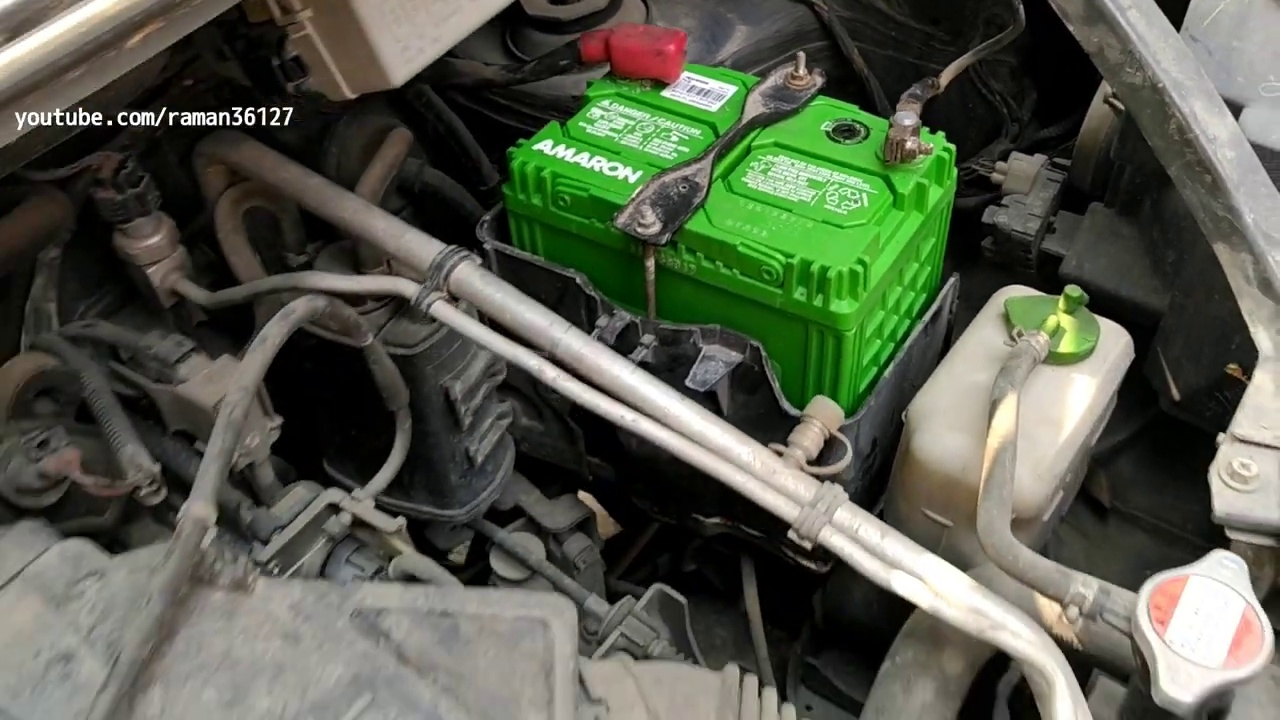battery: (517, 29, 958, 278)
neg_connected: (851, 64, 946, 182)
pos_connected: (576, 11, 691, 101)
